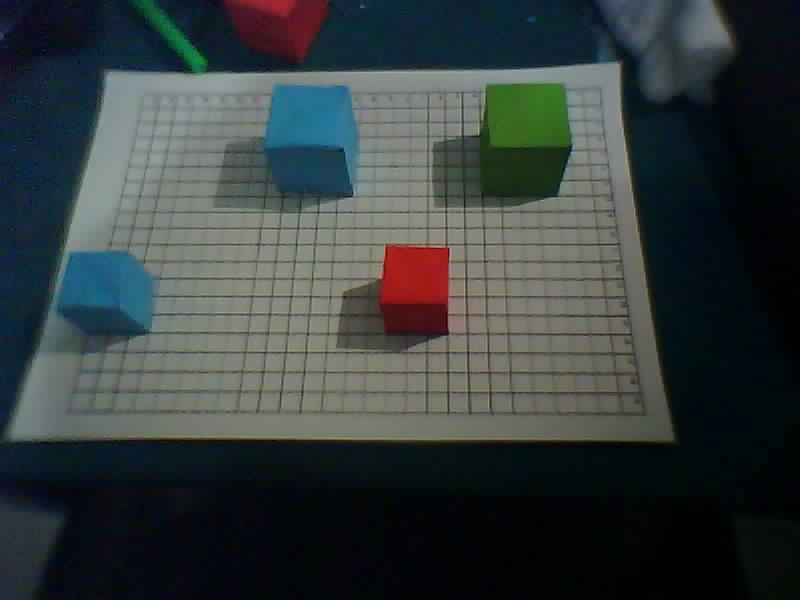LB: (63, 405, 71, 411)
LT: (139, 91, 147, 97)
RB: (639, 411, 647, 417)
RT: (595, 83, 603, 89)
